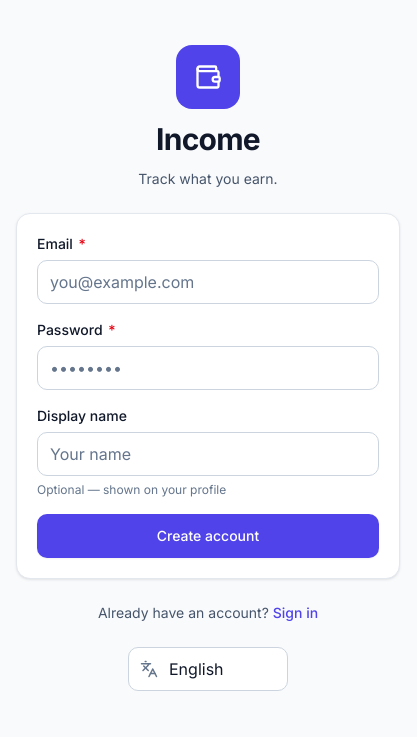
Test: SignUpPage › shows an inline error when sign-up fails
In the field labelled "Email *": (208, 282) [37,260,379,304], type "a@b.com"
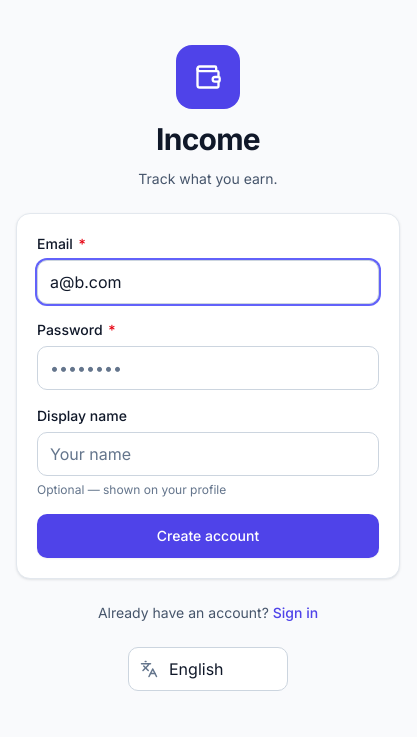
In the password field labelled "Password *": (208, 368) [37,346,379,390], type "password123"
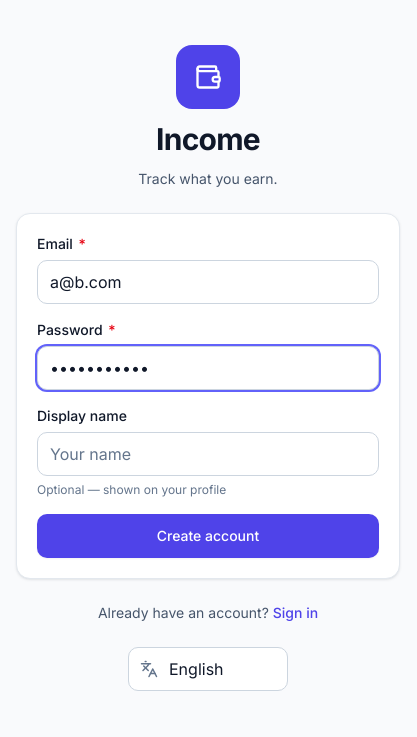
Click the button "Create account": click(208, 536) [37,514,379,558]
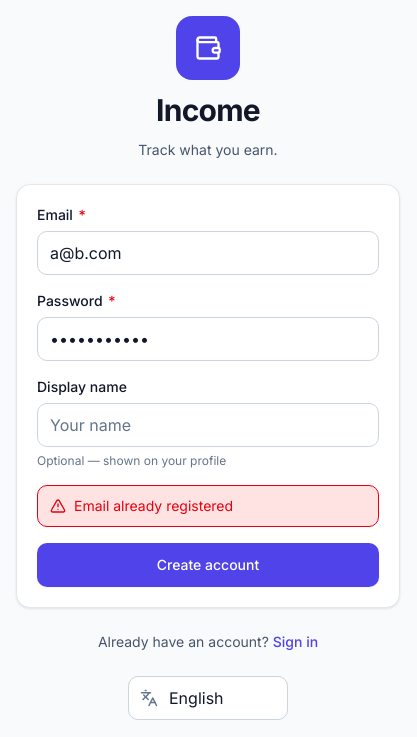
Result: the text "Email already registered" is shown at [74,496,233,516]
